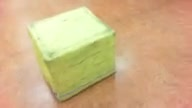cube: (27, 6, 117, 102)
